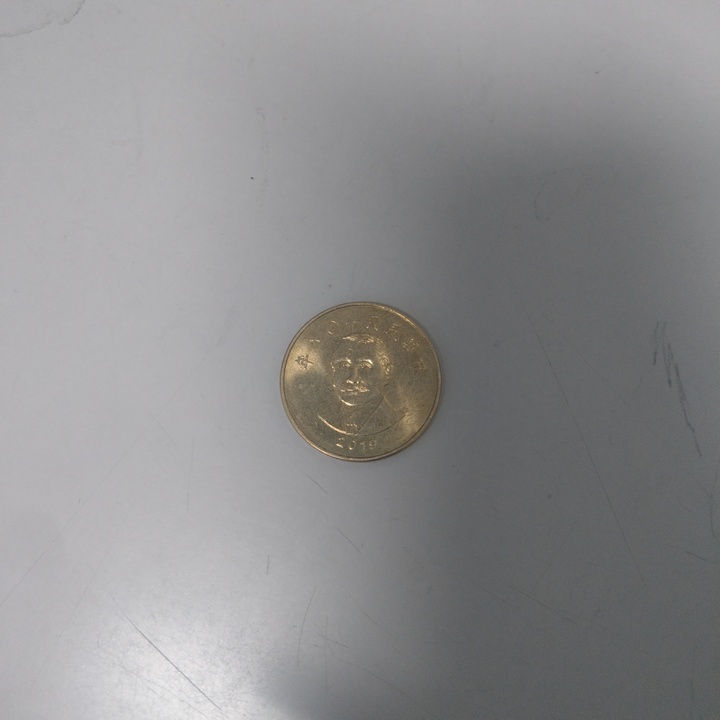50 dollar: (276, 299, 449, 467)
